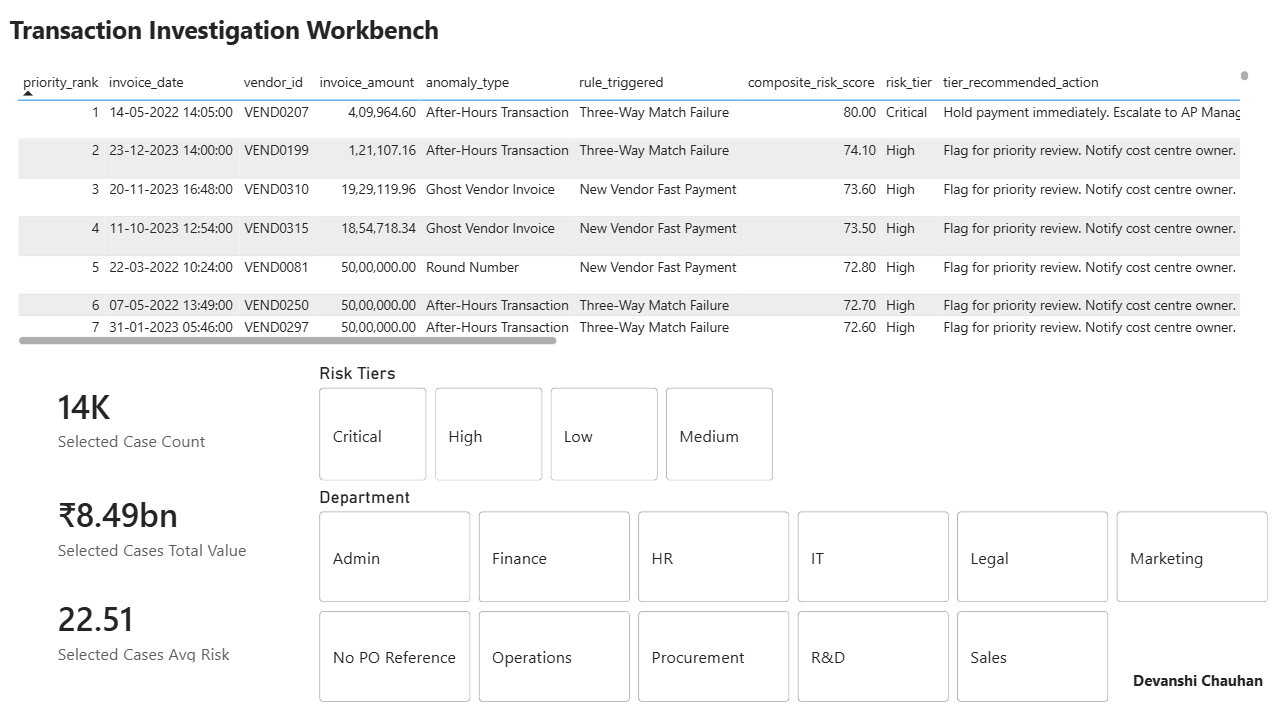

This screenshot's page, from the dashboard's own definition file:
{"tool":"powerbi","page":{"name":"Investigation Workbench","canvas":[1280,720],"ordinal":1},"visuals":[{"type":"tableEx","fields":{"Values":["case_management_queue.priority_rank","case_management_queue.invoice_date","case_management_queue.vendor_id","case_management_queue.invoice_amount","powerbi_master_export.anomaly_type","case_management_queue.rule_triggered","case_management_queue.composite_risk_score","case_management_queue.risk_tier","case_management_queue.tier_recommended_action","powerbi_master_export.full_explanation"]},"box":[28.1,80.7,1215.5,278.8],"z":0},{"type":"advancedSlicerVisual","title":"Risk Tiers","fields":{"Values":["case_management_queue.risk_tier"]},"box":[324.1,371.7,457.3,121.1],"z":1000},{"type":"advancedSlicerVisual","title":"Department","fields":{"Values":["powerbi_master_export.department"]},"box":[323.5,492.3,942.4,215.2],"z":2000},{"type":"cardVisual","fields":{"Data":["_Measures.Selected Case Count"]},"box":[44,371.7,210.3,106.4],"z":3000},{"type":"cardVisual","fields":{"Data":["_Measures.Selected Cases Total Value"]},"box":[44,478.1,245.8,106.4],"z":4000},{"type":"cardVisual","fields":{"Data":["_Measures.Selected Cases Avg Risk"]},"box":[44,584.5,228.7,97.8],"z":5000},{"type":"textbox","box":[20.2,24.5,437.2,43.3],"z":5001},{"type":"textbox","box":[1119.6,666.6,145.7,33.2],"z":5002}]}

Visuals, with their boxes in screenshot pixels (x1, y1, x2, y2), scaled from the page's 1280x720 canvas onto the 1277x707 screenshot:
tableEx - case_management_queue.priority_rank x case_management_queue.invoice_date: pyautogui.locateOnScreen(28, 79, 1241, 353)
"Risk Tiers" advancedSlicerVisual: pyautogui.locateOnScreen(323, 365, 780, 484)
"Department" advancedSlicerVisual: pyautogui.locateOnScreen(323, 483, 1263, 695)
cardVisual - _Measures.Selected Case Count: pyautogui.locateOnScreen(44, 365, 254, 469)
cardVisual - _Measures.Selected Cases Total Value: pyautogui.locateOnScreen(44, 469, 289, 574)
cardVisual - _Measures.Selected Cases Avg Risk: pyautogui.locateOnScreen(44, 574, 272, 670)
textbox: pyautogui.locateOnScreen(20, 24, 456, 67)
textbox: pyautogui.locateOnScreen(1117, 655, 1262, 687)
